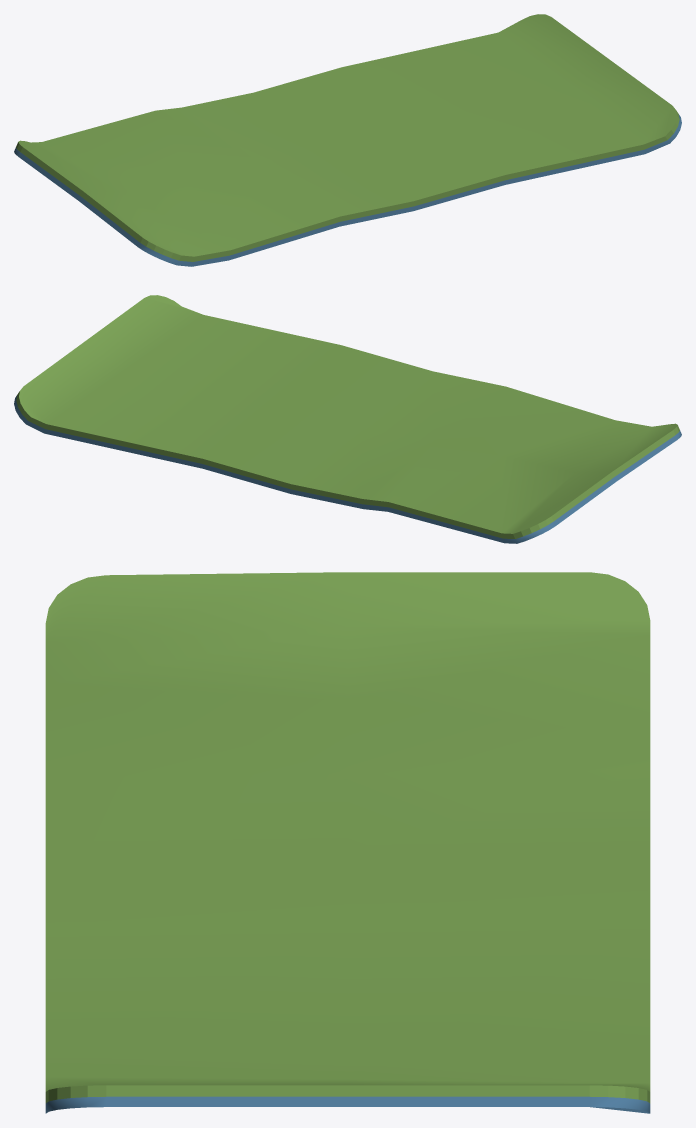
Rendered from yoga_mat.fbx.
The picture shows the model from 3 angles, top to bottom: view 1: azimuth 30°, elevation 25°; view 2: azimuth 150°, elevation 25°; view 3: azimuth 270°, elevation 25°; orthographic projection. The views are drawn at different scales.
Visible parts, largest first — view 1: pCube1; view 2: pCube1; view 3: pCube1.
Part boxes in pixels (left/top/right/bottom): pCube1: left=14, top=14, right=681, bottom=266; pCube1: left=14, top=295, right=681, bottom=543; pCube1: left=45, top=572, right=650, bottom=1113.
Size of the model in its own units: 35.88 by 2.04 by 17.45.
